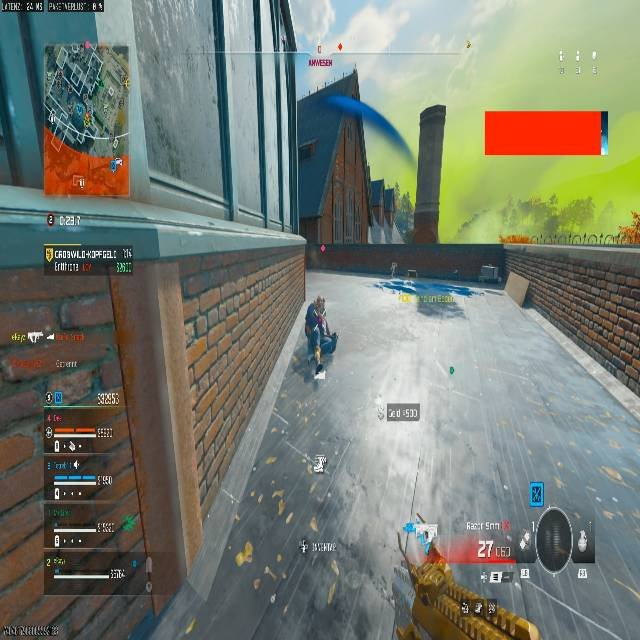head: (313, 295, 326, 312)
player: (304, 295, 337, 379)
